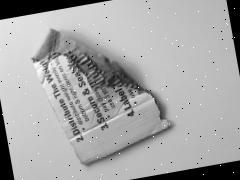cardboard: (6, 1, 194, 180)
